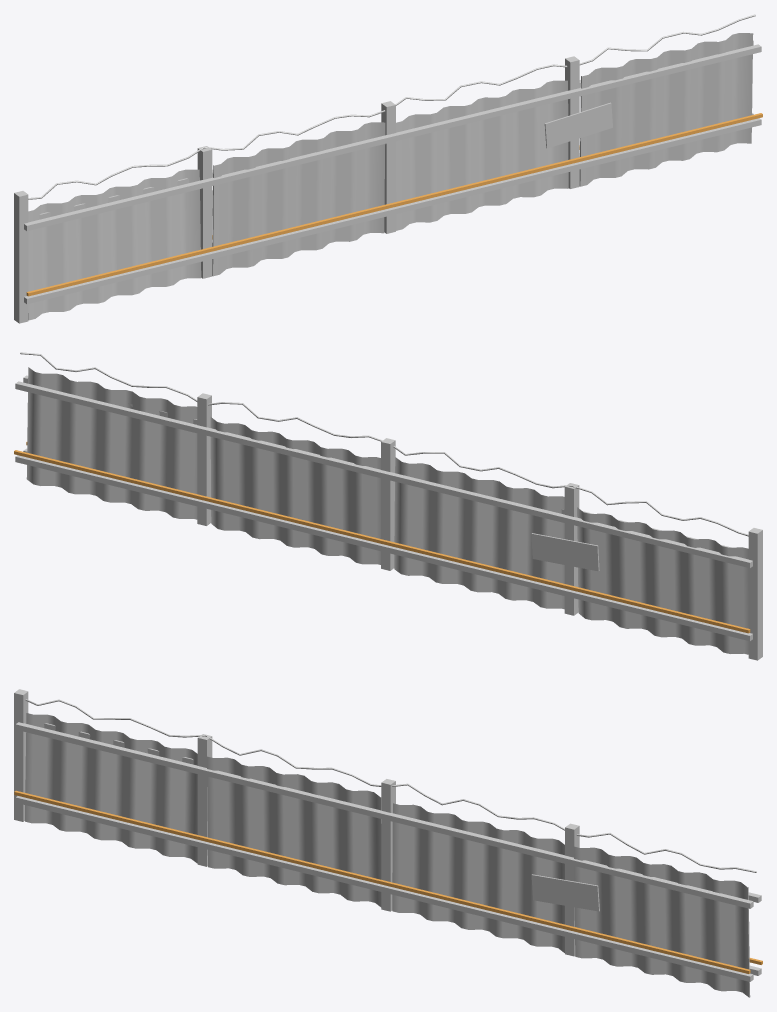
Rendered from ScrapWall.glb.
The picture shows the model from 3 angles, top to bottom: view 1: azimuth 30°, elevation 25°; view 2: azimuth 150°, elevation 25°; view 3: azimuth 330°, elevation 25°; orthographic projection.
Parts seen in each view (by area): view 1: Body, Glow; view 2: Body, Glow; view 3: Body, Glow.
Boxes of the visible parts, x1=… form: Body: x1=14, y1=14, x2=761, y2=323; Glow: x1=26, y1=113, x2=762, y2=296; Body: x1=15, y1=352, x2=762, y2=660; Glow: x1=14, y1=442, x2=750, y2=633; Body: x1=14, y1=689, x2=761, y2=997; Glow: x1=14, y1=790, x2=762, y2=973.
Bounding box in the file's own units: 40.26 × 6.71 × 1.32.
